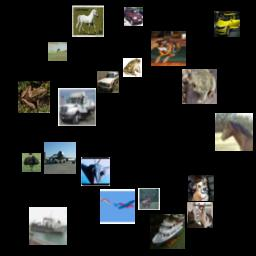airplane: (100, 189, 135, 224), (44, 142, 76, 174), (81, 157, 110, 186)
automobile: (214, 11, 240, 37), (97, 71, 119, 93), (124, 7, 143, 26)
bird: (22, 153, 41, 172)
cat: (187, 202, 213, 228)
deer: (138, 188, 160, 210), (48, 42, 67, 61)
dog: (151, 31, 186, 66), (188, 175, 214, 201)
frog: (182, 69, 217, 104), (18, 81, 50, 113), (123, 58, 142, 77)
ship: (29, 207, 67, 245), (150, 214, 185, 249)
truck: (58, 88, 96, 126)
